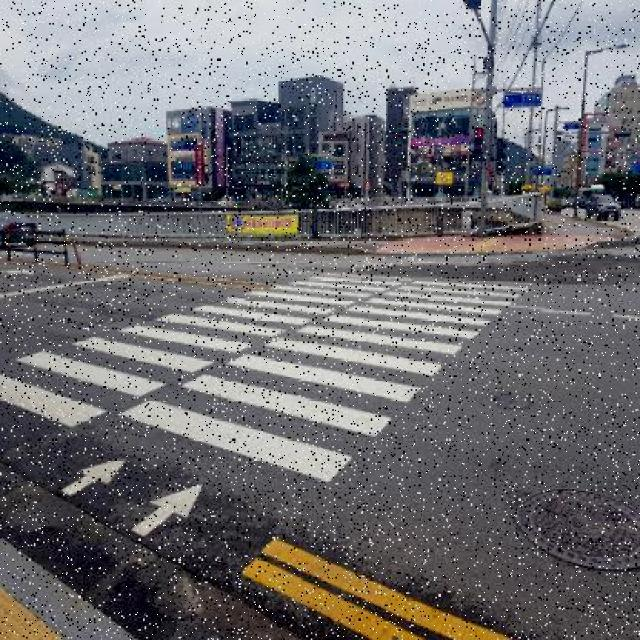crosswalk: (0, 250, 549, 496)
